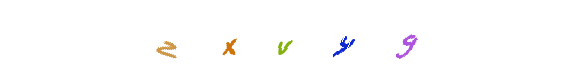G: (360, 0, 440, 80)
V: (247, 0, 327, 80)
X: (181, 0, 261, 80)
Y: (304, 0, 384, 80)
Z: (167, 0, 247, 80)
